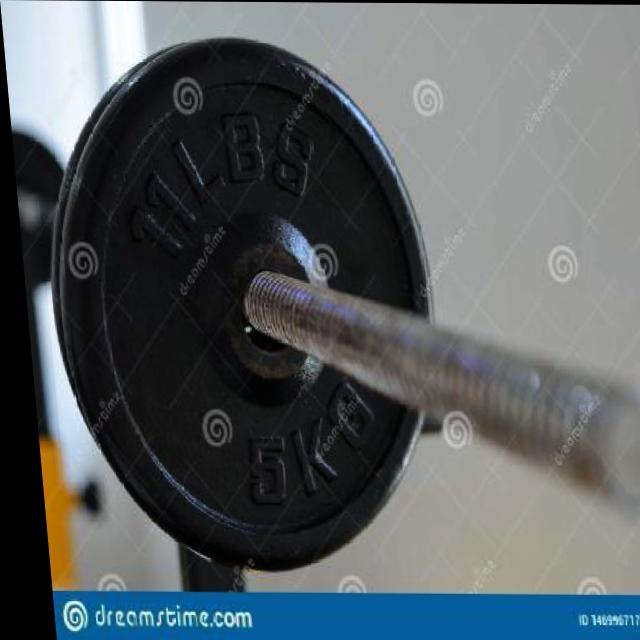barbell: (24, 34, 640, 578)
